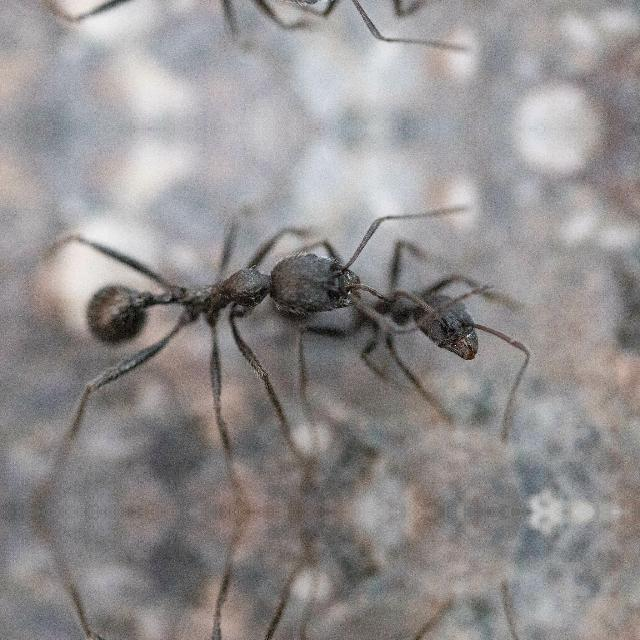Apheanogaster: (30, 205, 368, 392), (29, 0, 366, 50), (340, 258, 502, 362)
